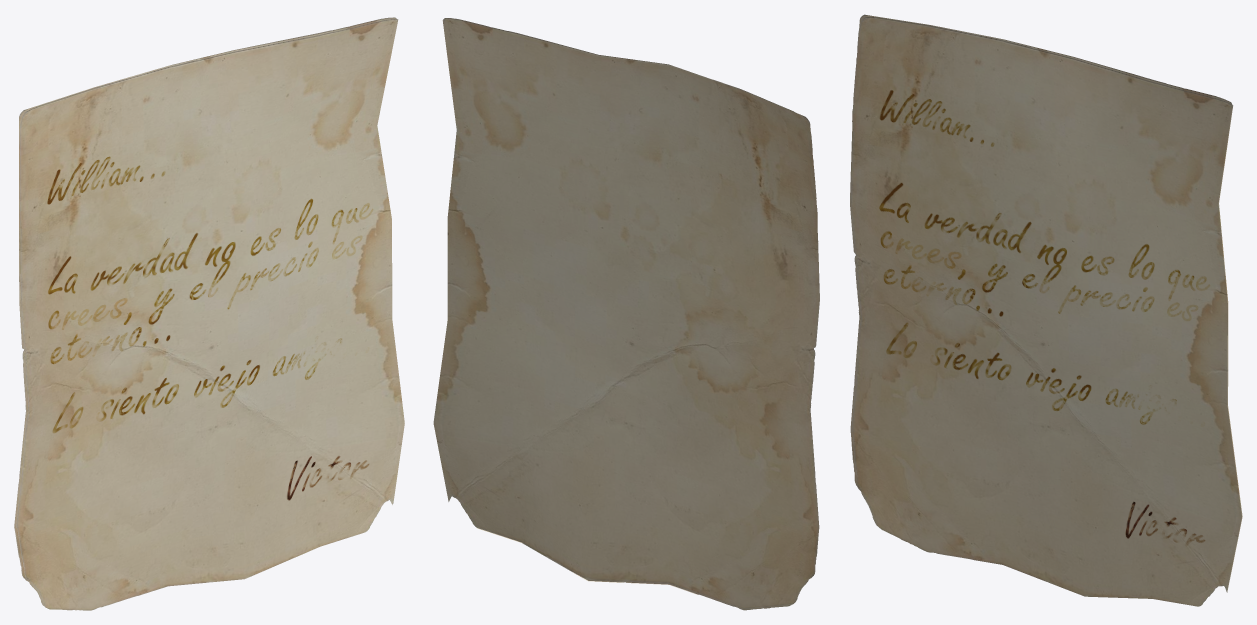
File: Letter_Mesh.fbx
3 views of the same model, side by side, from view 1: azimuth 30°, elevation 25°; view 2: azimuth 150°, elevation 25°; view 3: azimuth 330°, elevation 25° (orthographic).
Visible parts, largest first — view 1: polySurface7; view 2: polySurface7; view 3: polySurface7.
Part boxes in pixels (x1=…): polySurface7: x1=14, y1=17, x2=404, y2=610; polySurface7: x1=433, y1=18, x2=819, y2=610; polySurface7: x1=850, y1=14, x2=1242, y2=606.
Bounding box in the file's own units: 8.87 × 11.66 × 0.2738.
1 material, 1 textured.
